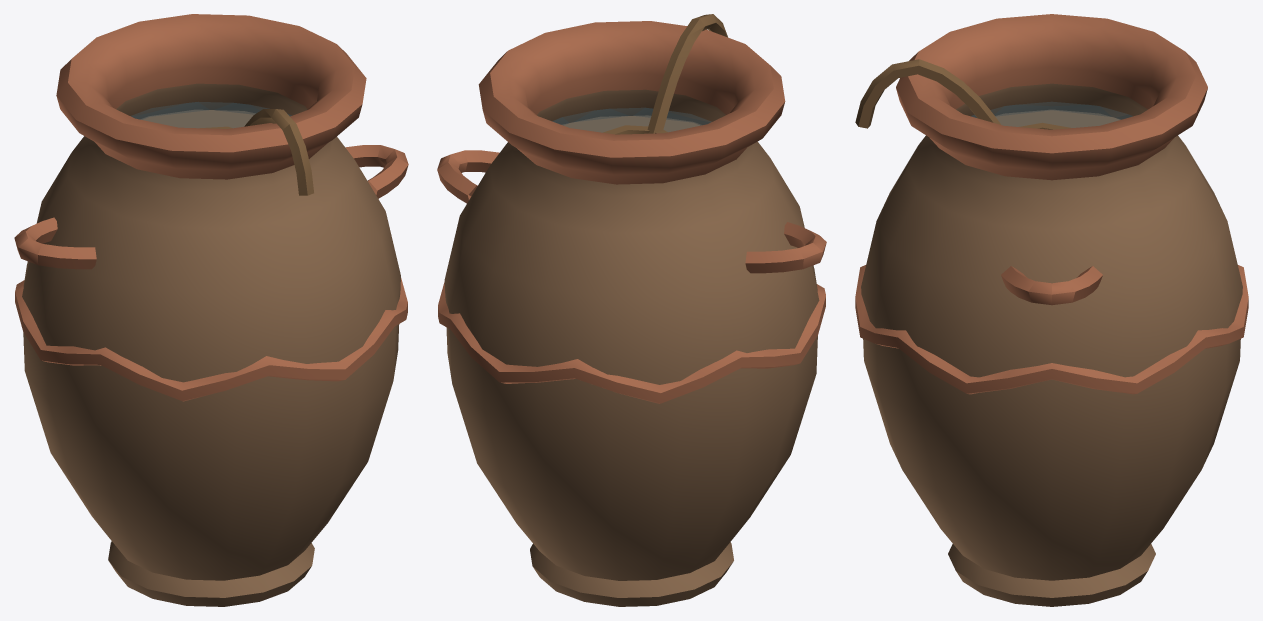
File: SM_LPD_Crate_UrnUrn_01.fbx
3 renders of one model, left to right at view 1: azimuth 30°, elevation 25°; view 2: azimuth 150°, elevation 25°; view 3: azimuth 270°, elevation 25°, orthographic.
Visible parts, largest first — view 1: SM_LPD_Crate_UrnUrn_01; view 2: SM_LPD_Crate_UrnUrn_01; view 3: SM_LPD_Crate_UrnUrn_01.
Part boxes in pixels (x1=…): SM_LPD_Crate_UrnUrn_01: x1=14, y1=14, x2=408, y2=606; SM_LPD_Crate_UrnUrn_01: x1=437, y1=14, x2=826, y2=606; SM_LPD_Crate_UrnUrn_01: x1=855, y1=14, x2=1248, y2=606.
Bounding box in the file's own units: 0.4622 × 0.579 × 0.408.
